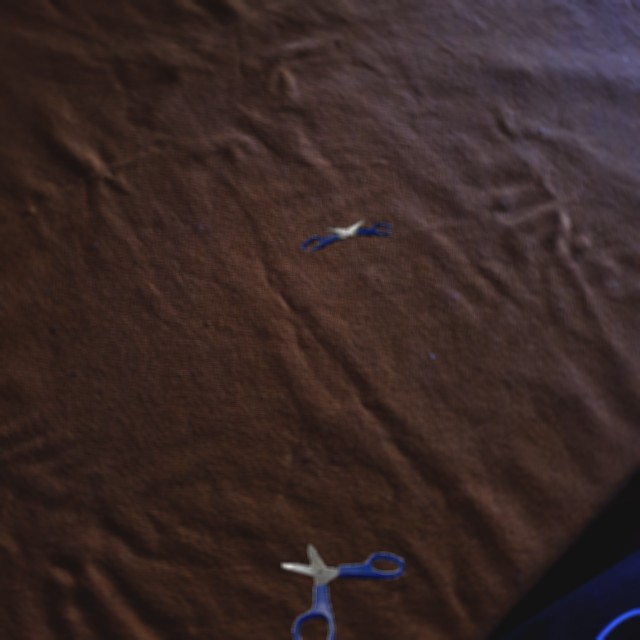scissors: (282, 545, 404, 640), (301, 220, 391, 250)
